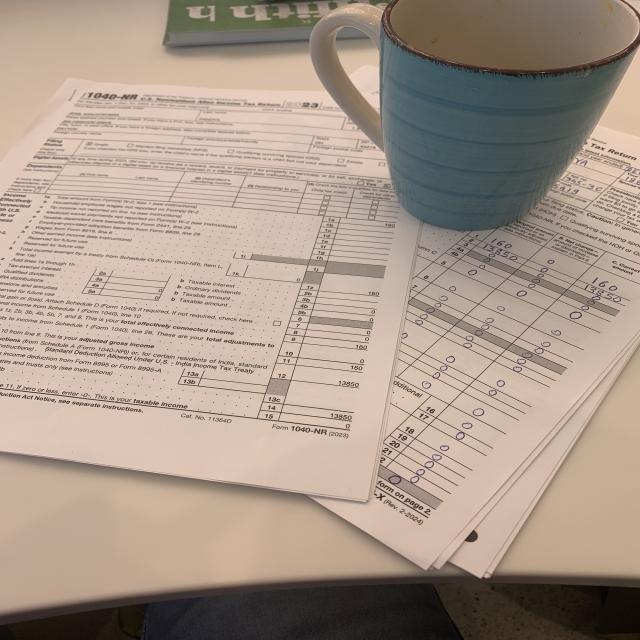Cup: (295, 0, 636, 239)
